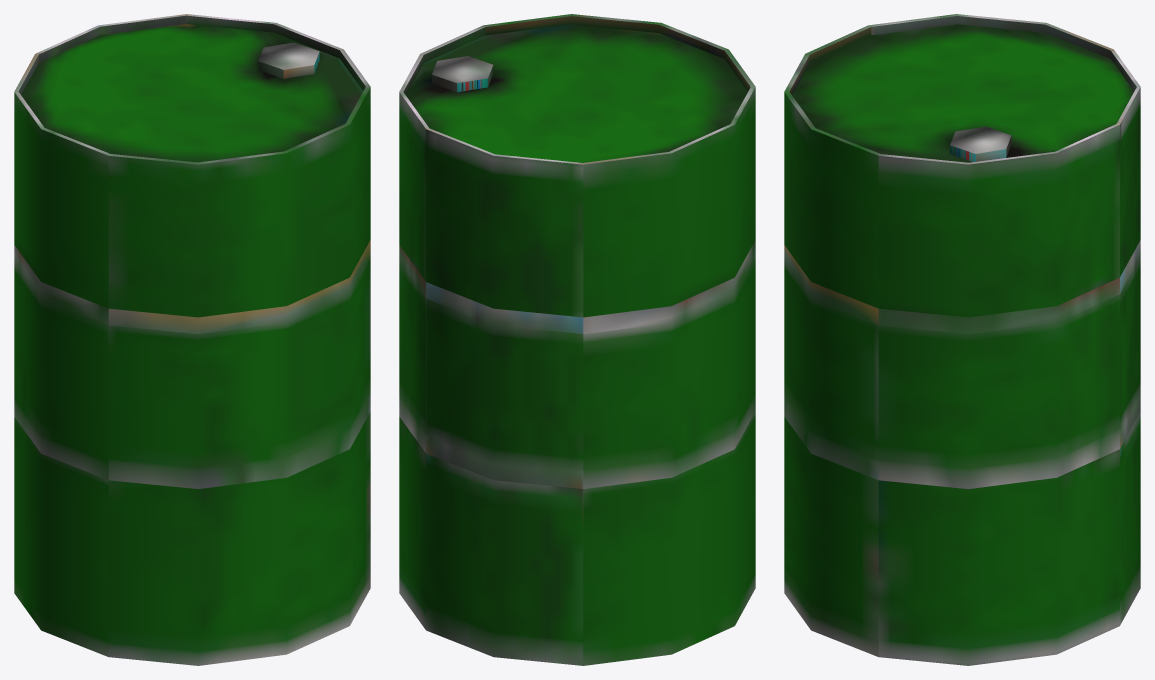
The model's file is junk_02-v1.glb.
The picture shows the model from 3 angles, left to right: view 1: azimuth 30°, elevation 25°; view 2: azimuth 150°, elevation 25°; view 3: azimuth 270°, elevation 25°; orthographic projection.
Visible parts, largest first — view 1: junk_02; view 2: junk_02; view 3: junk_02.
Part boxes in pixels (<box>): junk_02: <box>14,14,370,665</box>; junk_02: <box>399,14,755,665</box>; junk_02: <box>784,14,1140,665</box>.
Bounding box in the file's own units: 1.12 × 1.75 × 1.12.
1 material, 1 textured.
